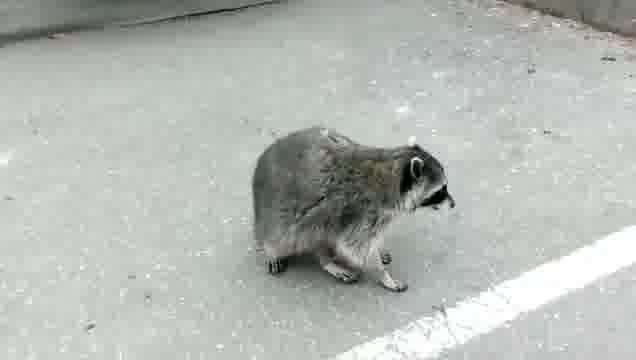raccoon: (252, 127, 456, 291)
